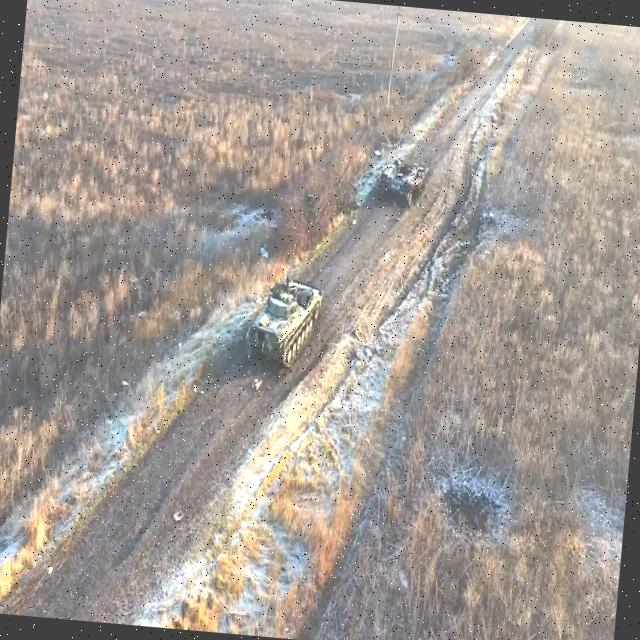AIFV: (248, 275, 326, 369)
Destroyed: (374, 154, 430, 203)
